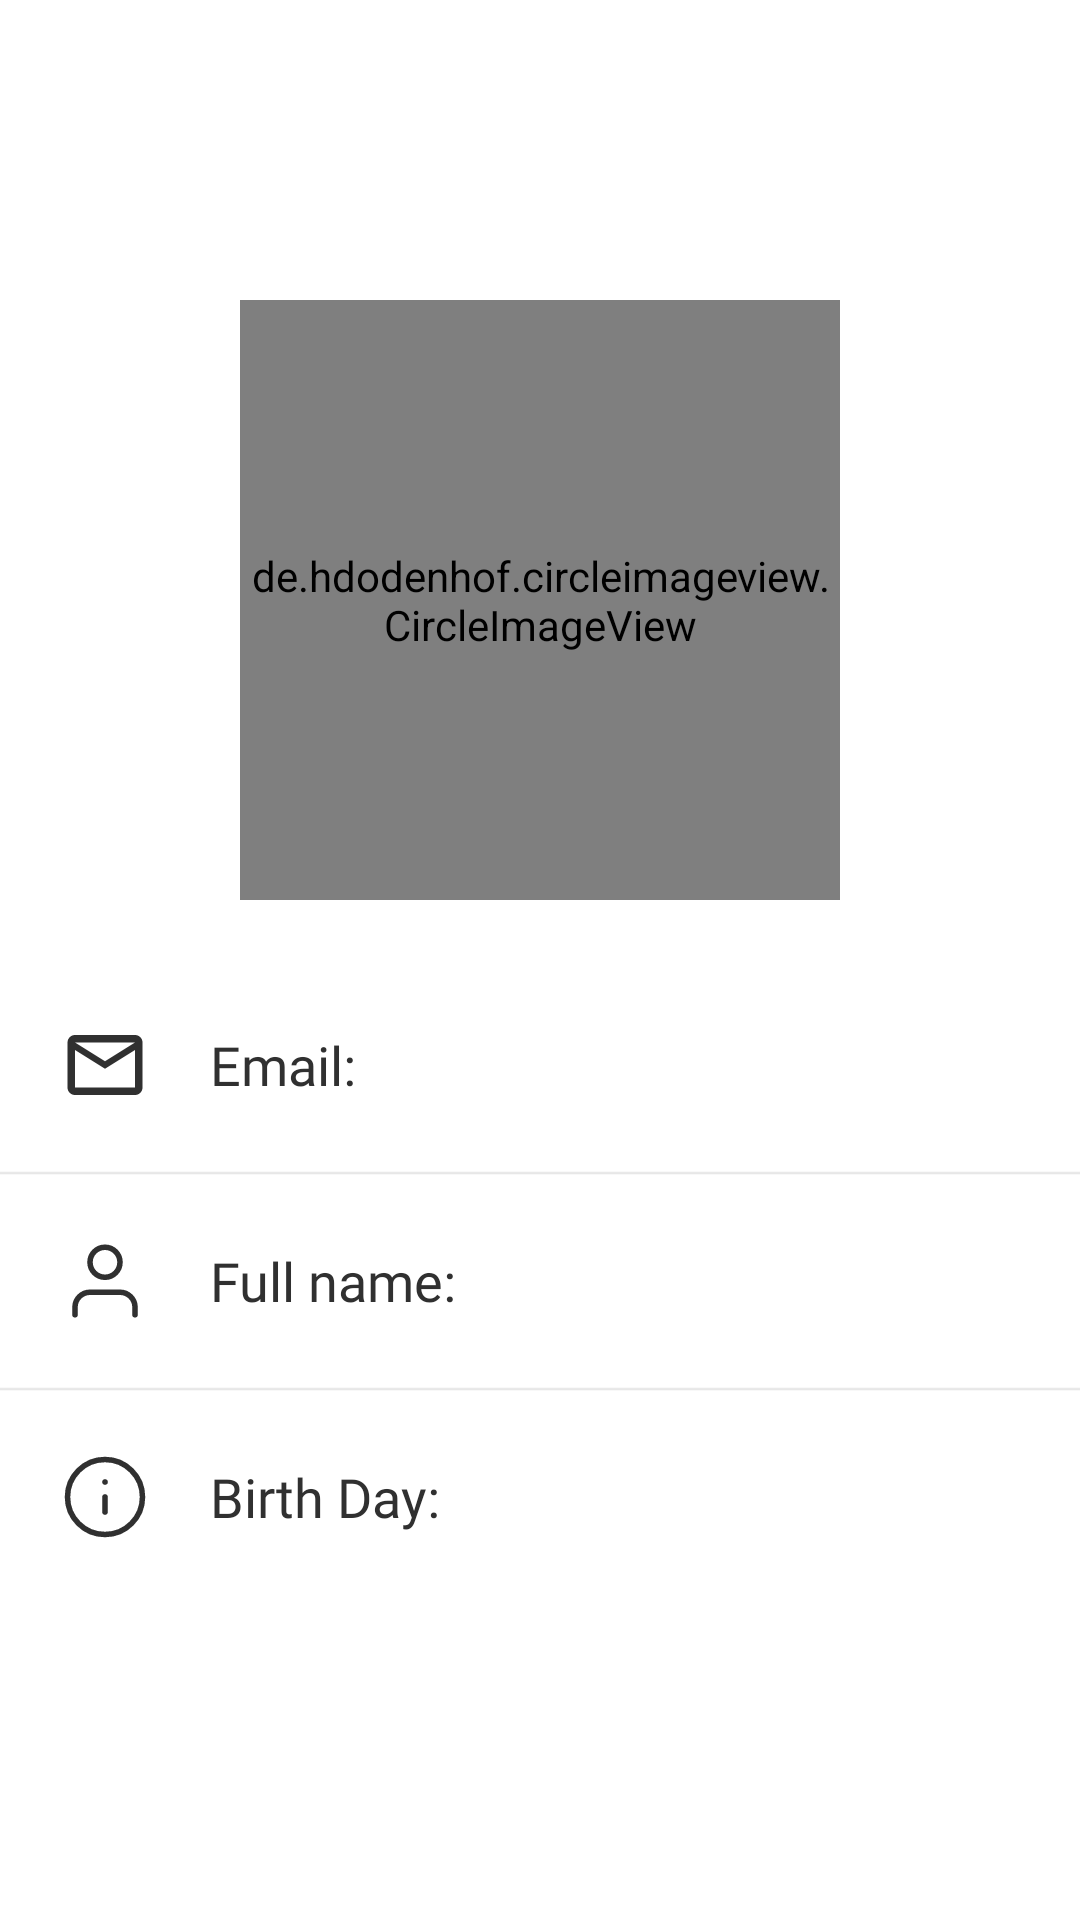

Screen size 1080px×1920px. Icon name, then its box in pixels as bbox=[x1, y1, x2, y2]:
human: bbox=[72, 1244, 138, 1318]
infor: bbox=[64, 1456, 146, 1538]
